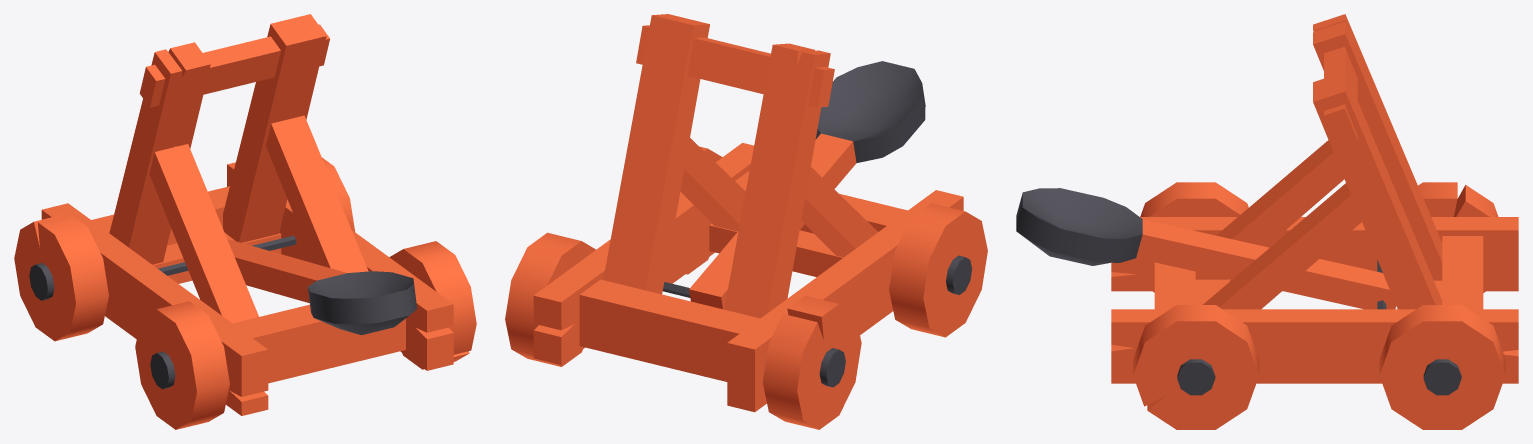
Rendered from Catapult.fbx.
3 renders of one model, left to right at view 1: azimuth 30°, elevation 25°; view 2: azimuth 150°, elevation 25°; view 3: azimuth 270°, elevation 25°, orthographic. The views are drawn at different scales.
Parts seen in each view (by area): view 1: Catapult, Catapult_spoon; view 2: Catapult, Catapult_spoon; view 3: Catapult, Catapult_spoon.
Boxes of the visible parts, box(x1,y1,x2,y2) form: Catapult: box(14, 14, 476, 429); Catapult_spoon: box(227, 239, 416, 335); Catapult: box(505, 14, 987, 429); Catapult_spoon: box(689, 61, 925, 309); Catapult: box(1111, 14, 1518, 429); Catapult_spoon: box(1016, 188, 1396, 309).
Size of the model in its own units: 184 by 181 by 268.
